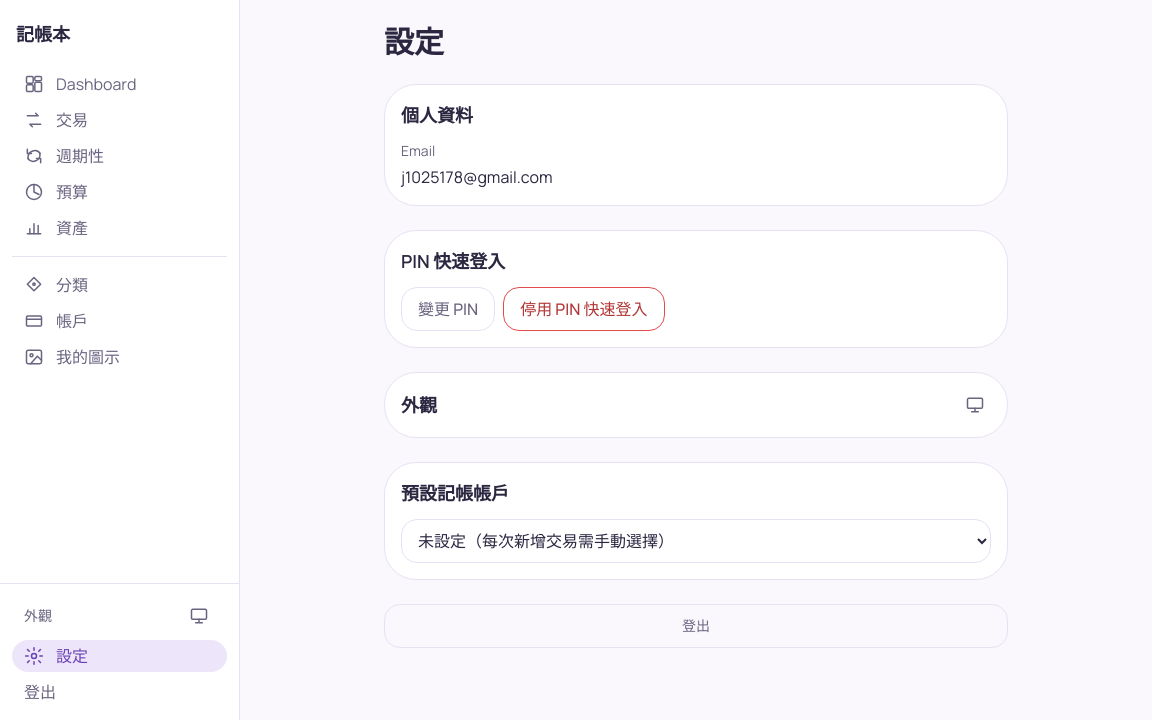
SettingsPage › 已設定 PIN › 點擊「變更 PIN」需先輸入舊 PIN（數字鍵盤），非密碼輸入框
Click the button "變更 PIN": (448, 309) [401,287,495,331]
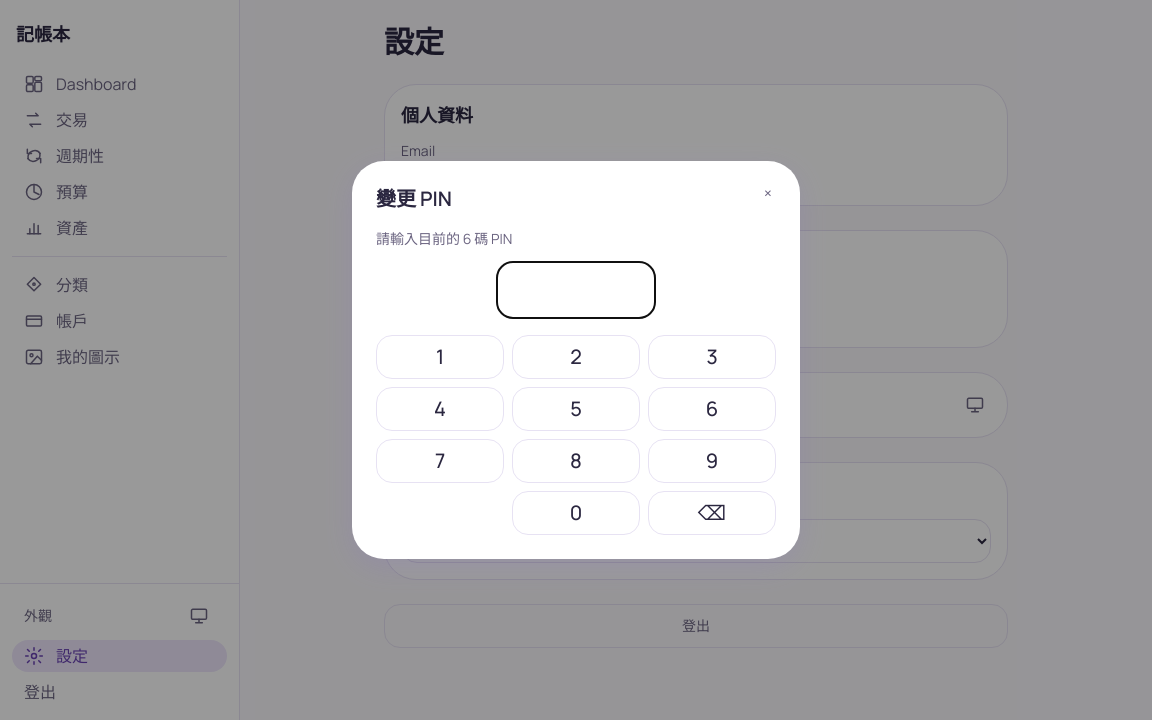
Now the text "請輸入目前的 6 碼 PIN" is shown, box [376,229,512,248]
Now the button named "數字 1" is shown, box [376,335,504,379]
